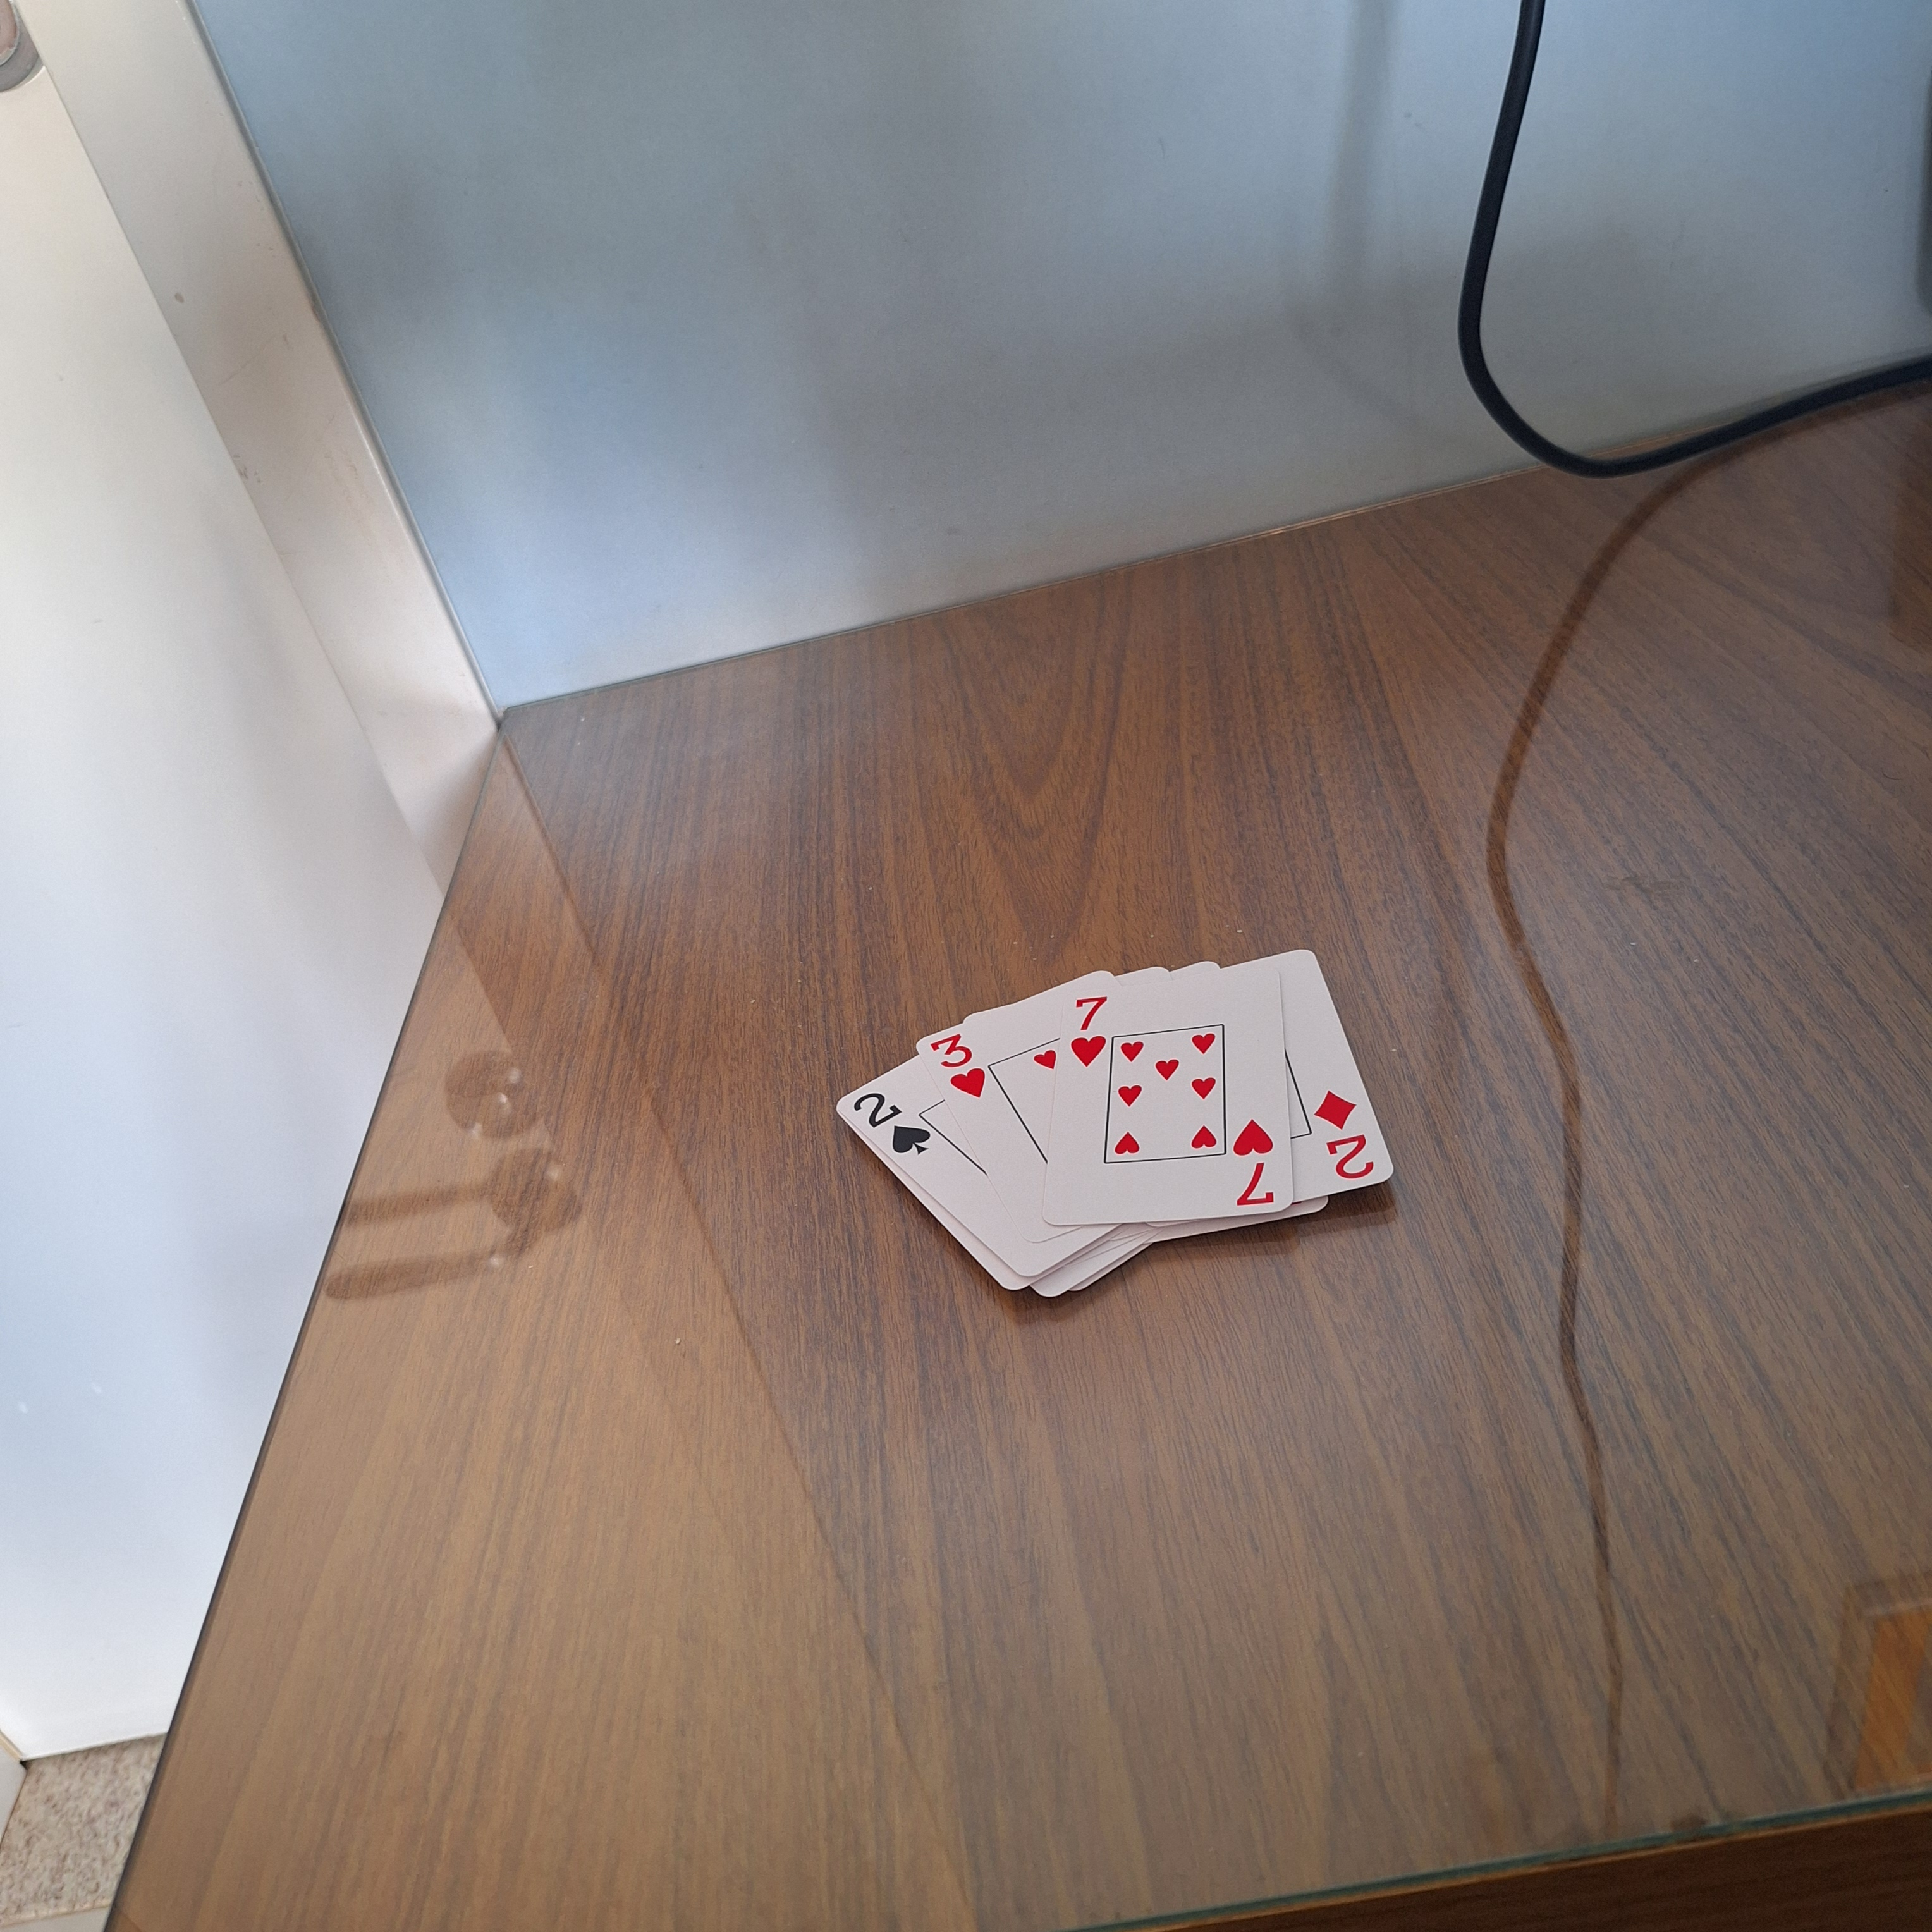2E: (849, 1083, 938, 1157)
2O: (1306, 1083, 1385, 1185)
3C: (925, 1023, 994, 1106)
7C: (1228, 1113, 1283, 1214), (1063, 991, 1113, 1074)
